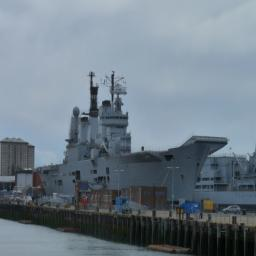Portanaves: (27, 62, 231, 214)
